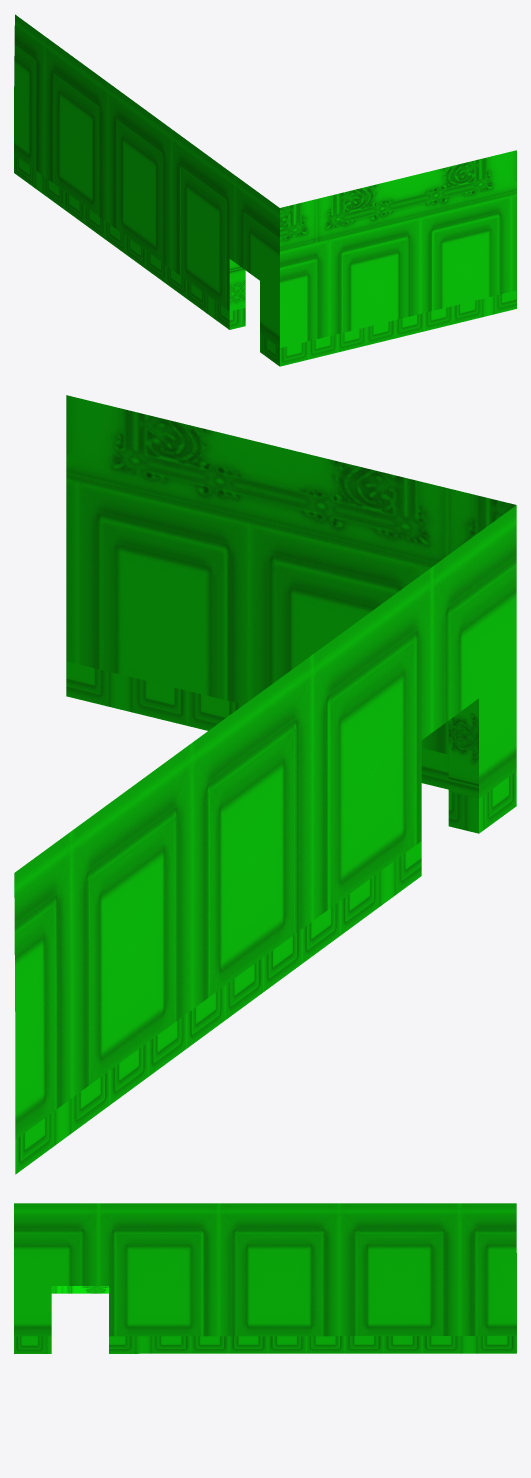
3 views of the same model, one above another, from view 1: azimuth 30°, elevation 25°; view 2: azimuth 150°, elevation 25°; view 3: azimuth 270°, elevation 25° (orthographic). The views are drawn at different scales.
Parts seen in each view (by area): view 1: 복도벽 10; view 2: 복도벽 10; view 3: 복도벽 10.
Boxes of the visible parts, bbox=[...] form: 복도벽 10: bbox=[14, 14, 516, 366]; 복도벽 10: bbox=[14, 395, 516, 1174]; 복도벽 10: bbox=[14, 1203, 516, 1353].
Size of the model in its own units: 311 by 198 by 599.
